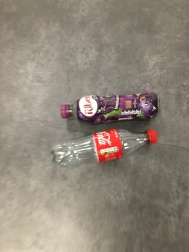bottle_purple: (45, 84, 180, 128)
bottle_red: (46, 129, 170, 176)
